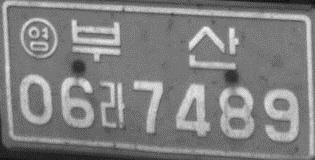0: (17, 72, 54, 126)
4: (175, 83, 210, 136)
6: (58, 75, 94, 130)
7: (131, 79, 163, 135)
8: (219, 86, 256, 139)
9: (263, 88, 299, 142)
라: (98, 79, 128, 129)
부산_D: (70, 18, 239, 71)
영: (19, 16, 57, 59)
